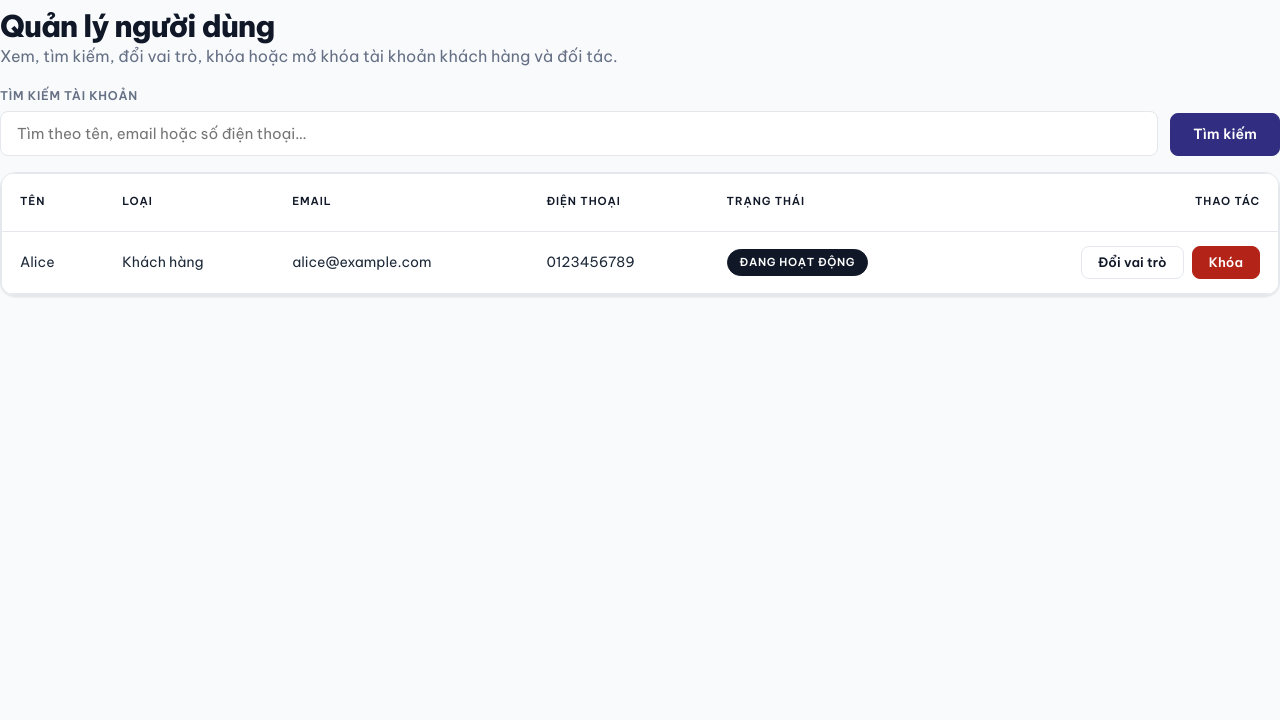
Test: UsersPage › changes a user role after confirmation and refreshes the list
Expected: the text "Alice" is shown, [2,232,104,294]
Click the button with aria-label "đổi vai trò alice" at (1132, 263), box [1081,246,1184,279]
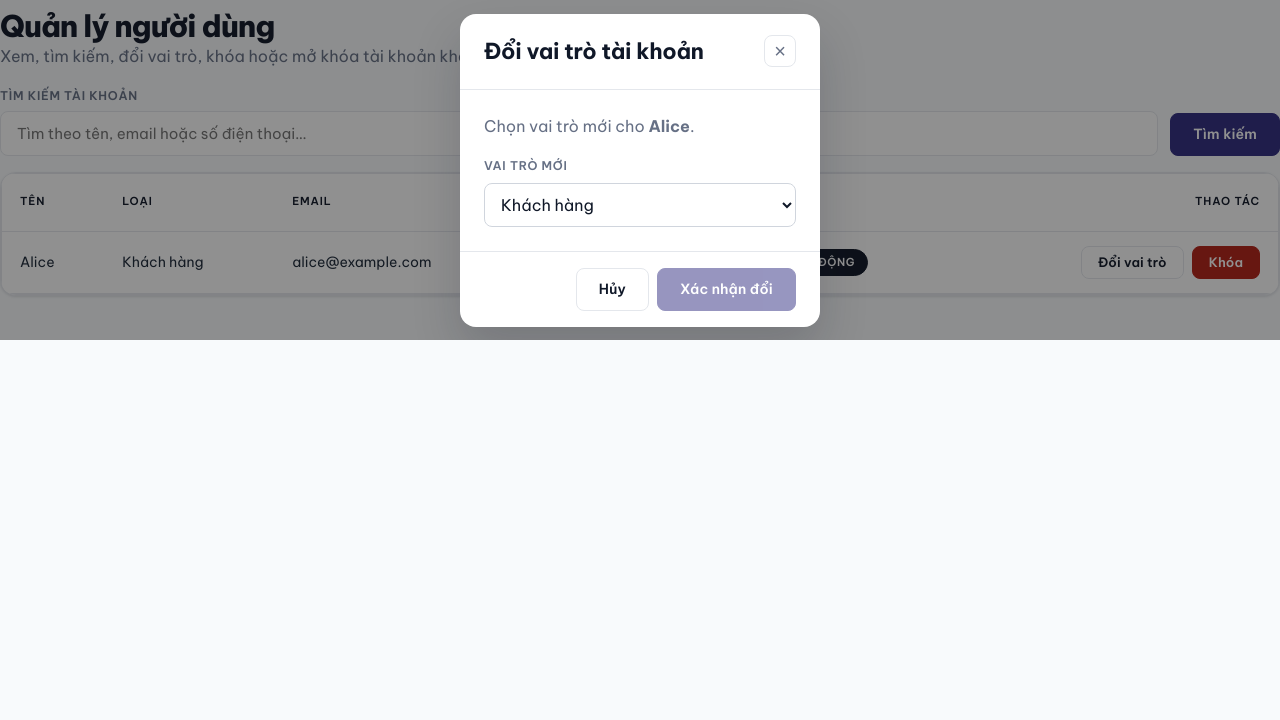
Select "Đối tác" in the dropdown labelled "Vai trò mới" at (640, 205), box [484,183,796,227]
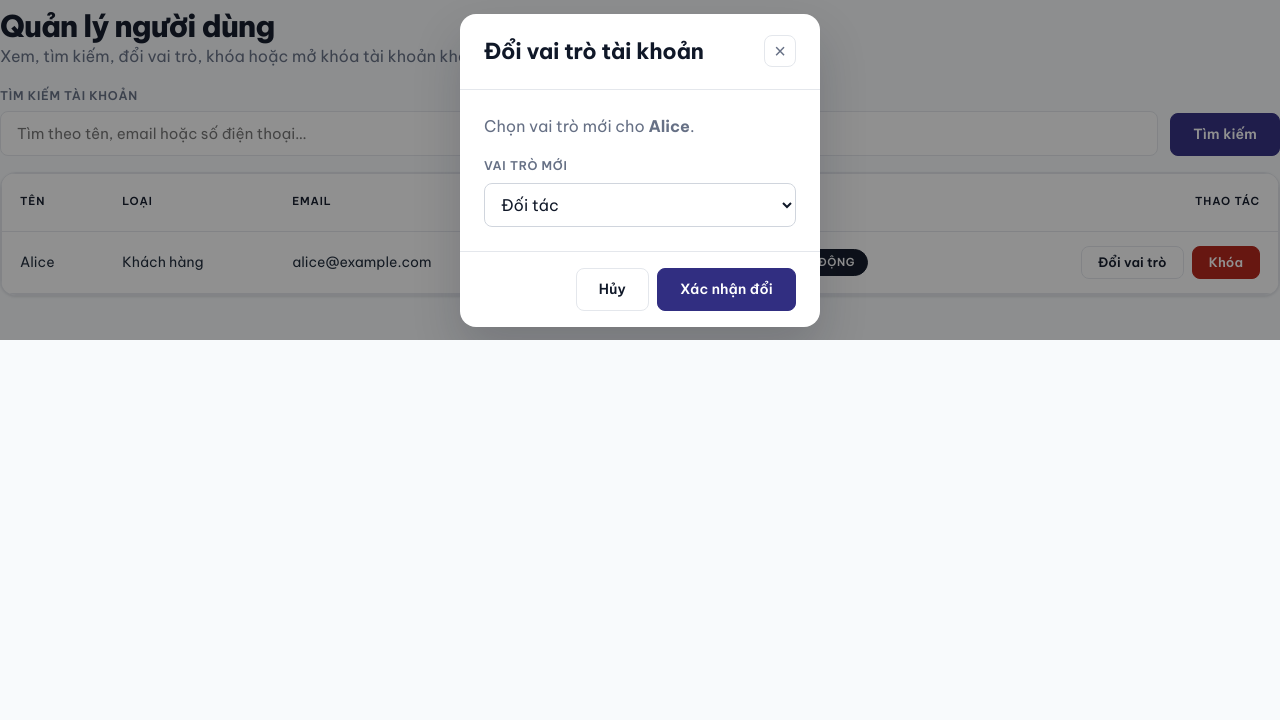
Click the button "Xác nhận đổi" at (726, 289), box [657,268,796,311]
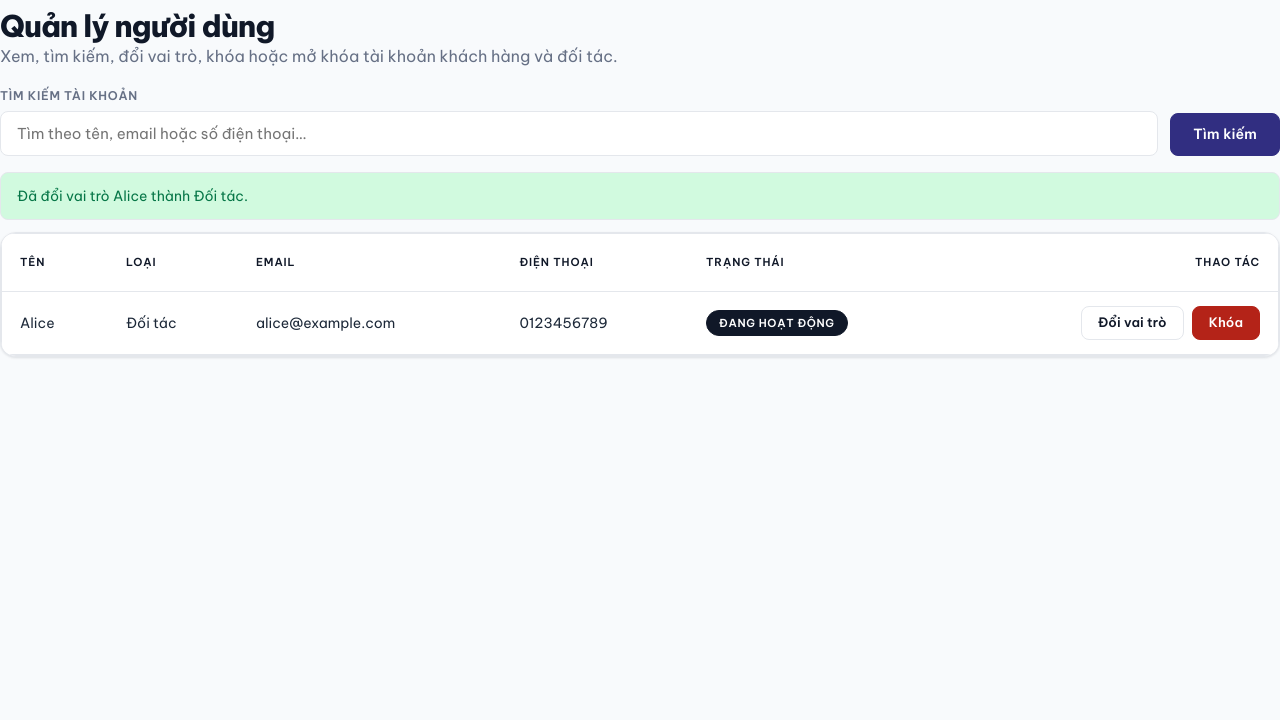
Expected: the text "Đã đổi vai trò Alice thành Đối tác." is shown, [0,172,1279,220]
